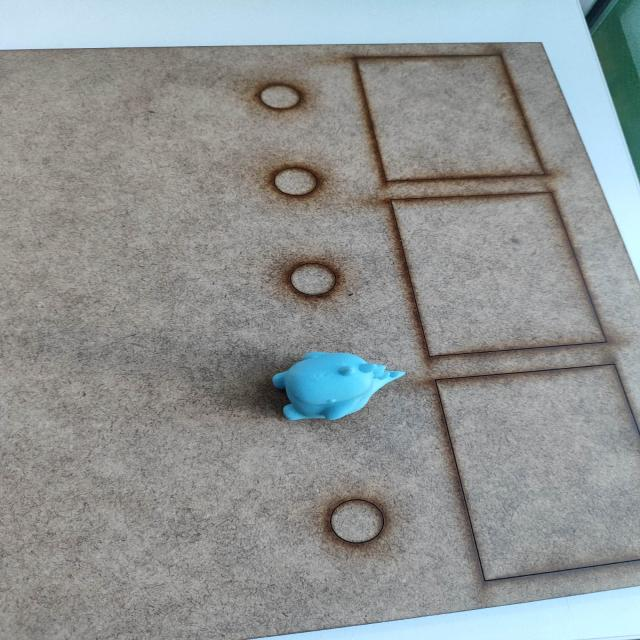DINO: (247, 338, 412, 428)
